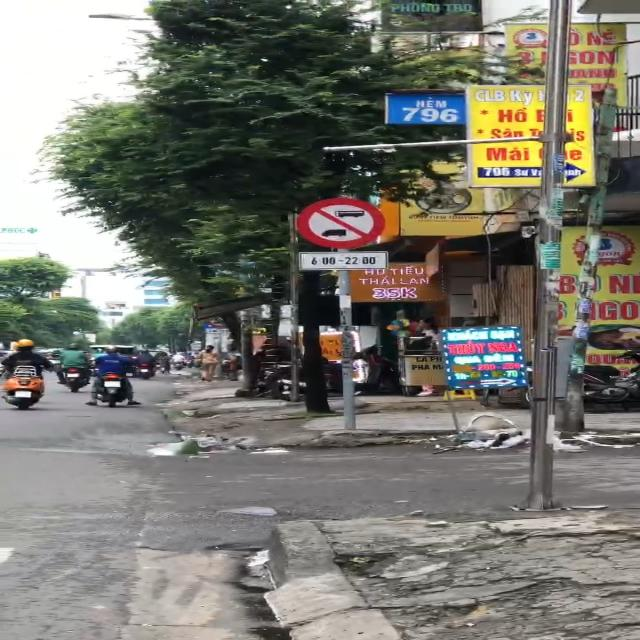Bien bao cam xe oto khach va xe oto tai: (291, 192, 392, 249)
